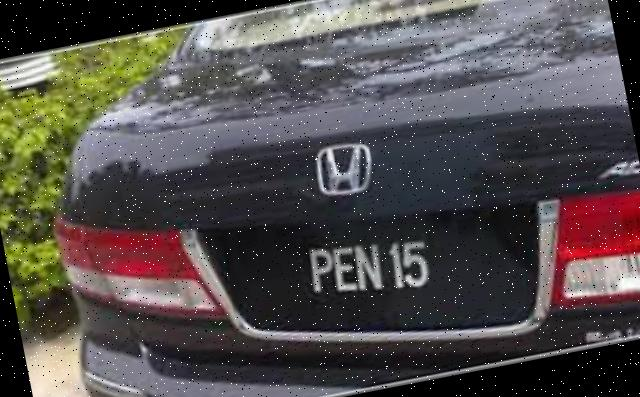License_Plate: (197, 173, 569, 366)
car: (14, 1, 640, 397)
